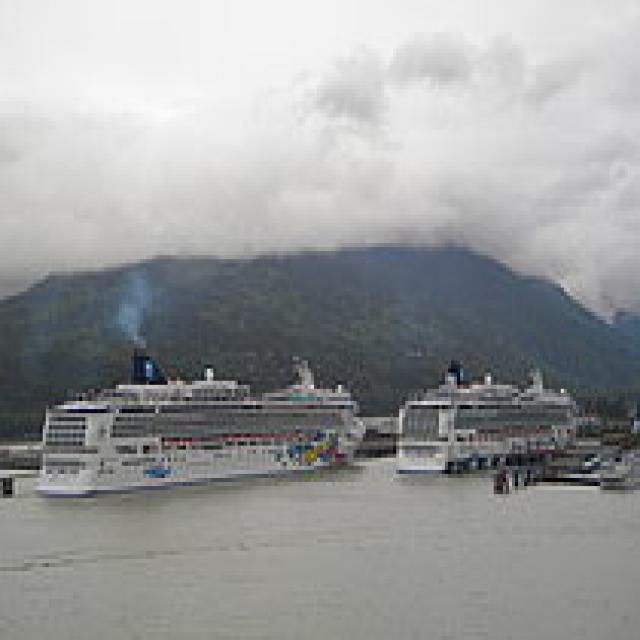Ship: (28, 342, 379, 508), (388, 358, 595, 496)
